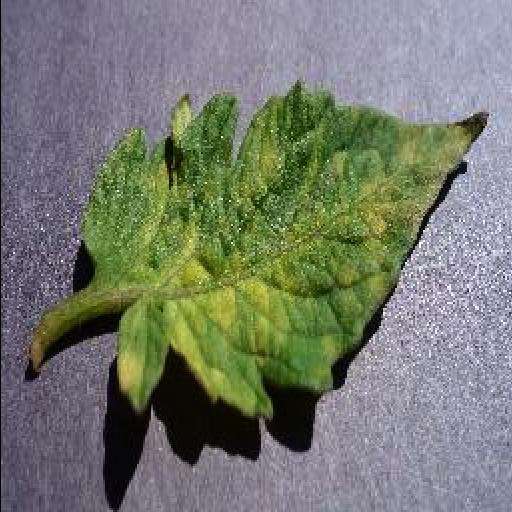disease_tomato: (82, 79, 490, 415)
